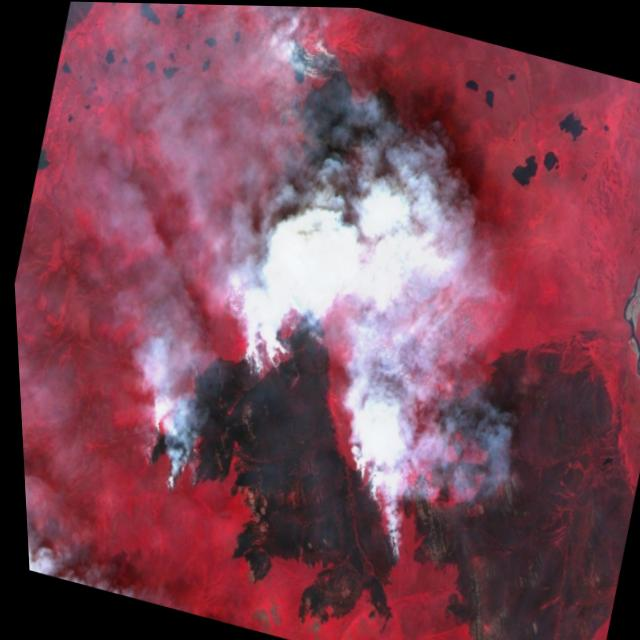fire: (115, 233, 464, 575), (261, 20, 366, 153)
